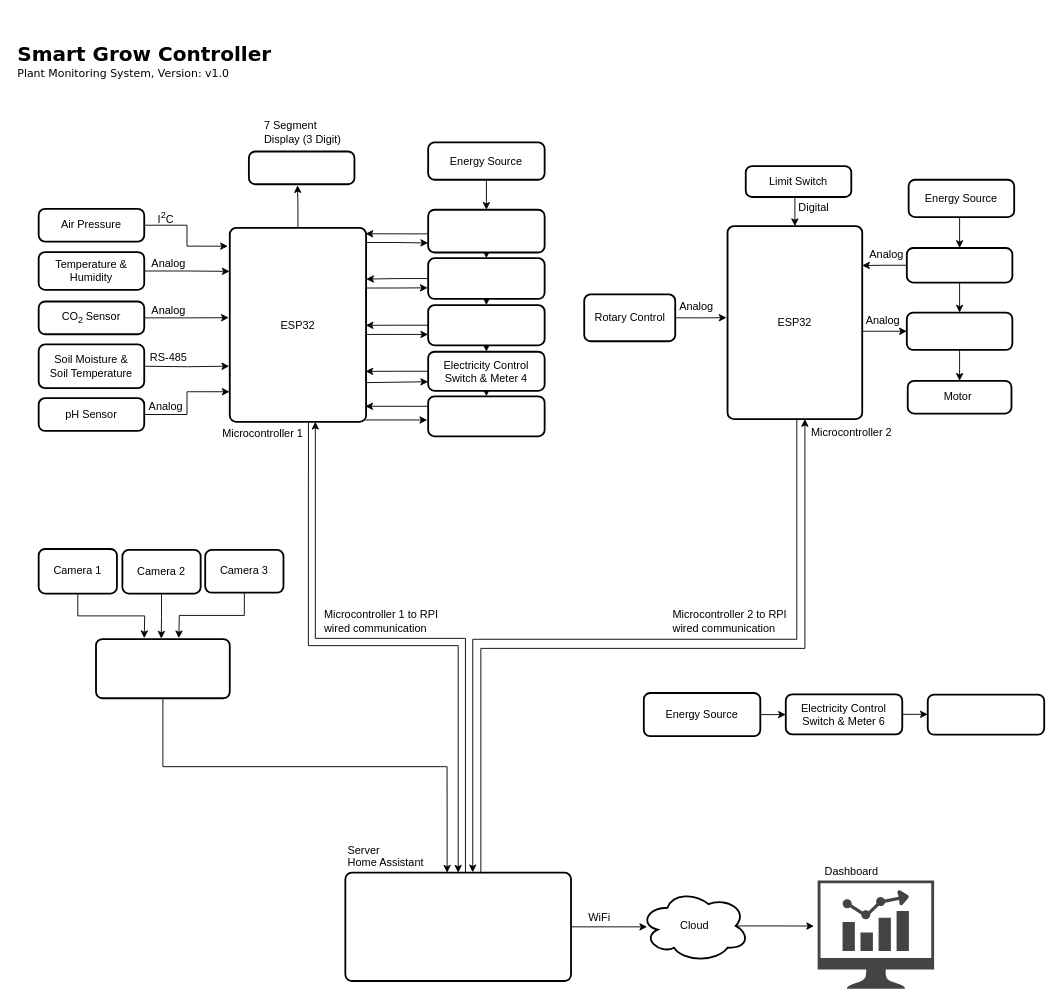
Image size: 1060x1004. Some labels were removed from this diagram. Each missing label, with the box of its shape:
Digital Display: (248, 150, 355, 185)
Electricity Control Switch & Meter 1: (427, 208, 545, 253)
Electricity Control Switch & Meter 2: (427, 257, 545, 299)
Electricity Control Switch & Meter 3: (427, 304, 545, 346)
Electricity Control Switch & Meter 5: (427, 395, 545, 437)
Energy Meter: (905, 247, 1013, 283)
Lighting System: (926, 693, 1045, 735)
Motor Driver: (905, 311, 1013, 350)
Multiple Camera Controller: (95, 638, 230, 699)
Raspberry Pi: (344, 871, 571, 981)
